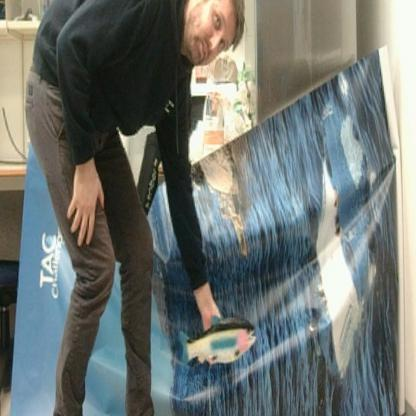rubberfish: (178, 314, 258, 373)
